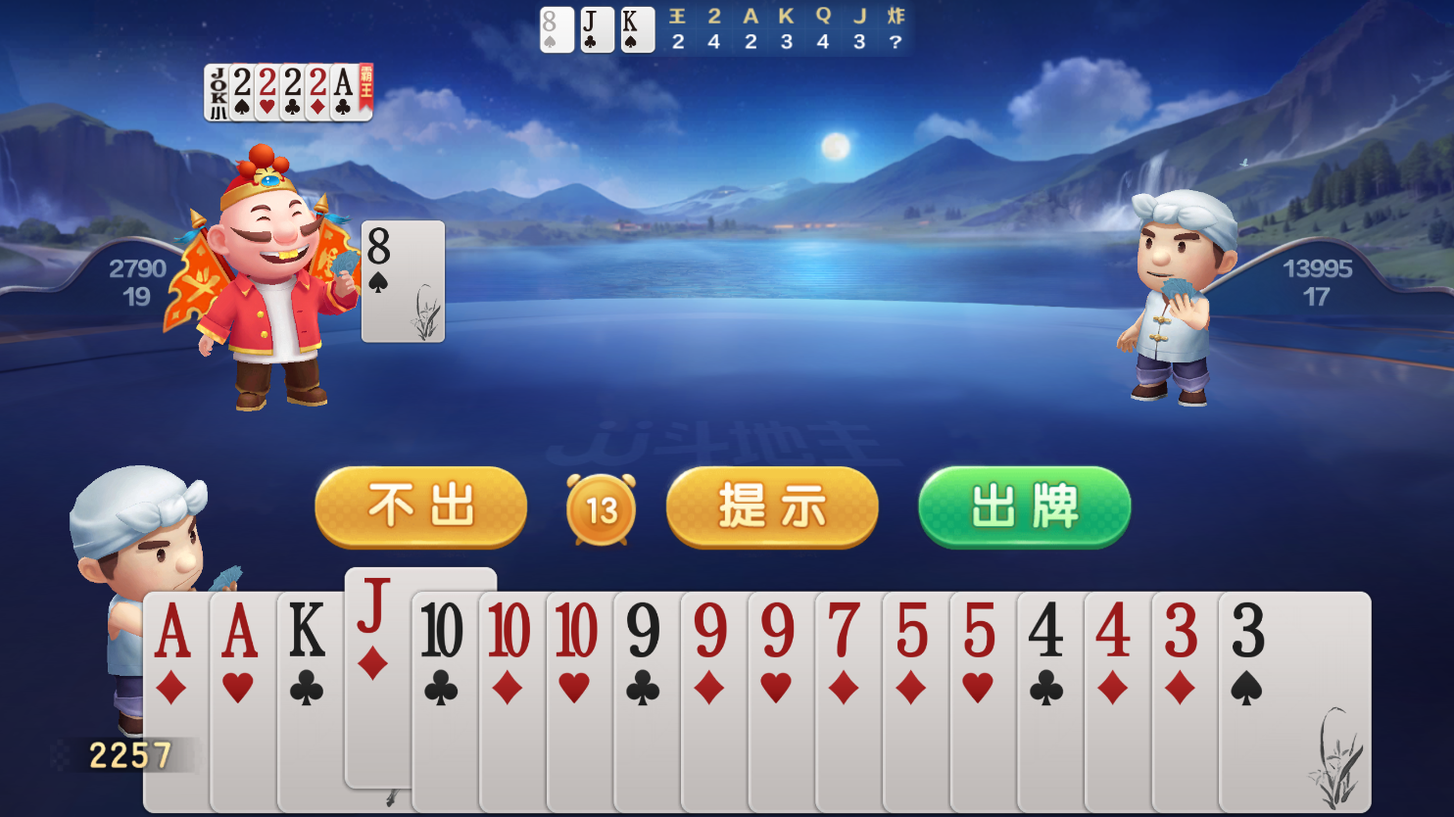A: (147, 598, 202, 666), (214, 599, 267, 664), (330, 65, 357, 99)
J: (347, 573, 400, 643), (579, 6, 605, 36)
K: (282, 597, 335, 666), (618, 5, 644, 37)
eight: (363, 222, 399, 269), (535, 6, 560, 37)
five: (889, 599, 940, 666), (955, 599, 1005, 664)
four: (1022, 597, 1075, 668), (1090, 599, 1141, 667)
joker: (205, 64, 229, 107)
nine: (685, 599, 739, 667), (617, 599, 669, 667), (751, 599, 804, 665)
seven: (819, 597, 871, 666)
ten: (482, 598, 537, 666), (549, 599, 604, 665), (415, 599, 468, 667)
three: (1224, 599, 1276, 668), (1156, 599, 1208, 665)
two: (229, 65, 254, 99), (280, 66, 305, 99), (255, 65, 279, 98), (306, 66, 329, 99)
